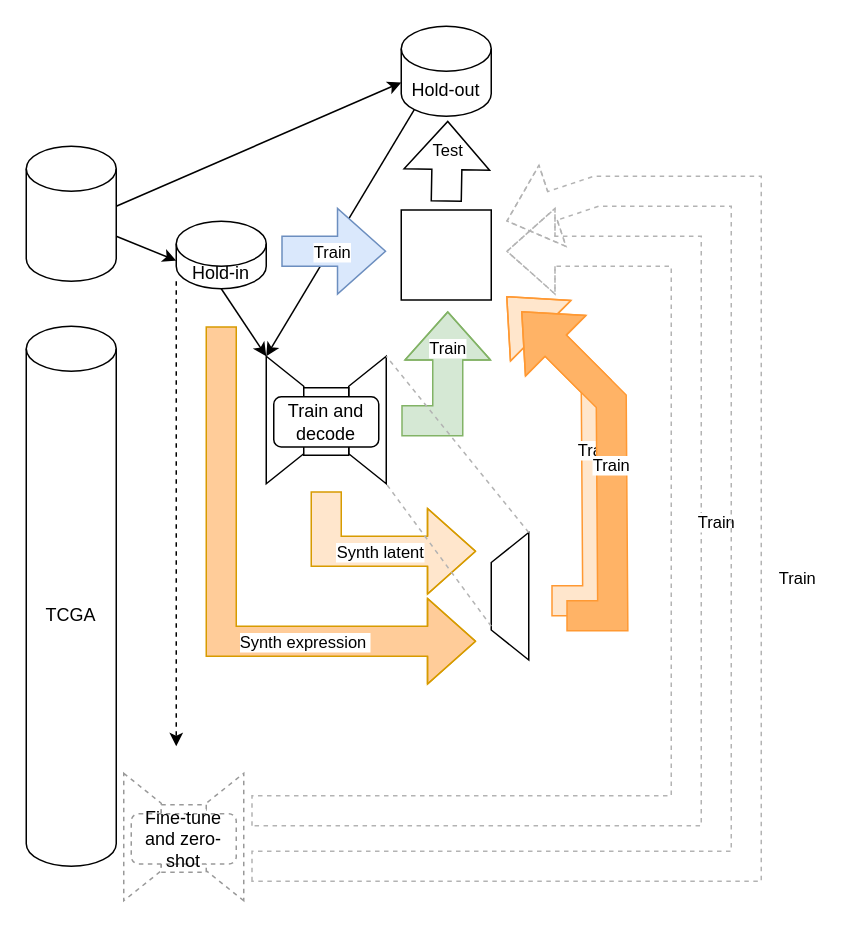
Image size: 842x927. Some labels were removed from this diagram. Here are the shapes that lost their labels. From the top down, the box of each, then its label:
(25, 145, 116, 281): BRCA
(400, 208, 491, 300): Random forest
